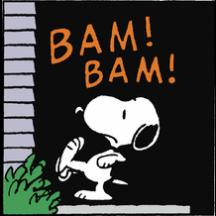snoopy: (52, 92, 162, 202)
